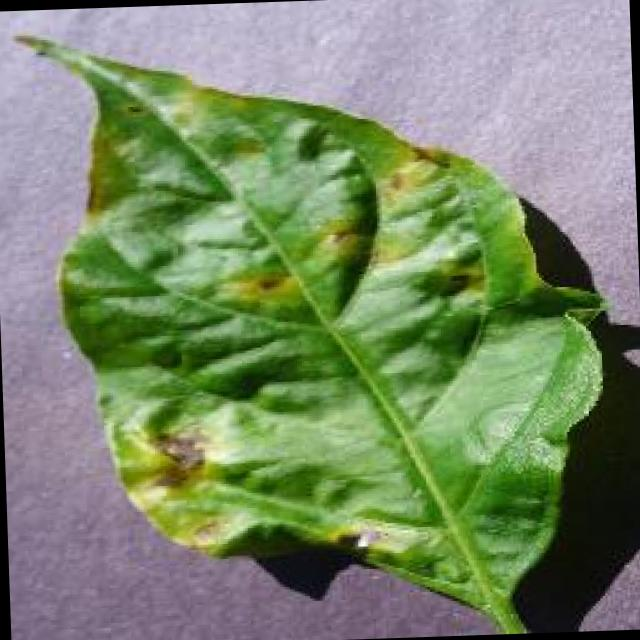Chilli_Bacterial_Spot: (9, 7, 628, 640), (107, 395, 245, 555), (221, 216, 367, 316), (422, 249, 490, 309), (226, 263, 304, 313), (148, 424, 210, 478), (379, 150, 443, 200), (285, 112, 332, 166), (324, 520, 383, 560), (433, 265, 477, 304), (246, 269, 290, 300), (616, 337, 640, 380)
